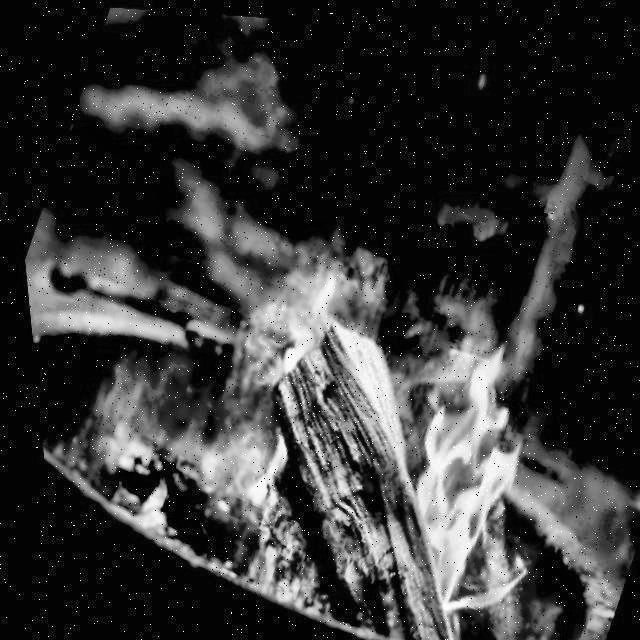Fire: (342, 321, 583, 630), (200, 237, 377, 514)
